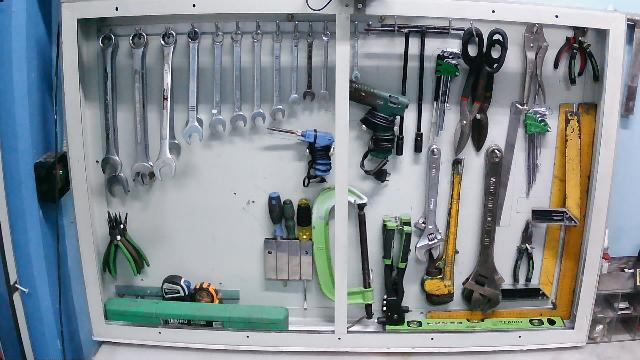solder_electrical: (263, 123, 334, 189)
